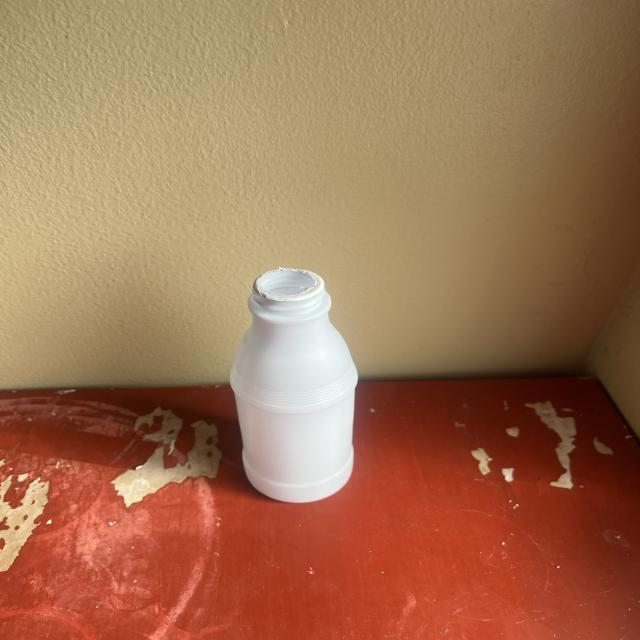HDPE_Bottle: (231, 268, 357, 502)
